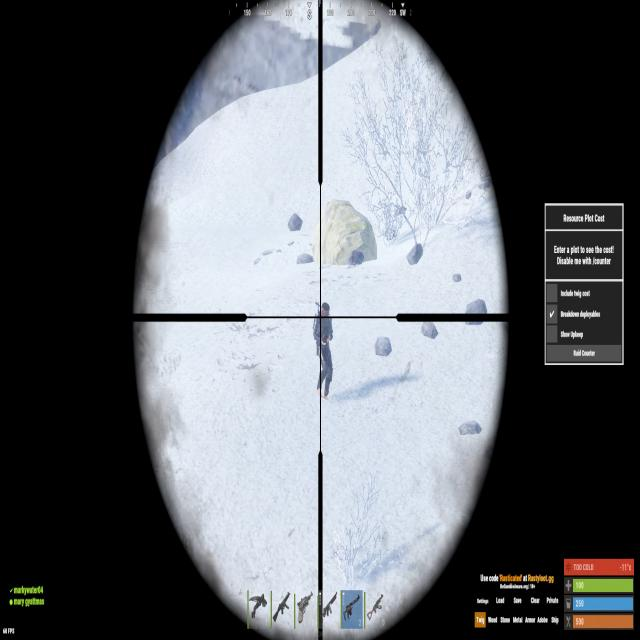Player: (313, 300, 334, 403)
